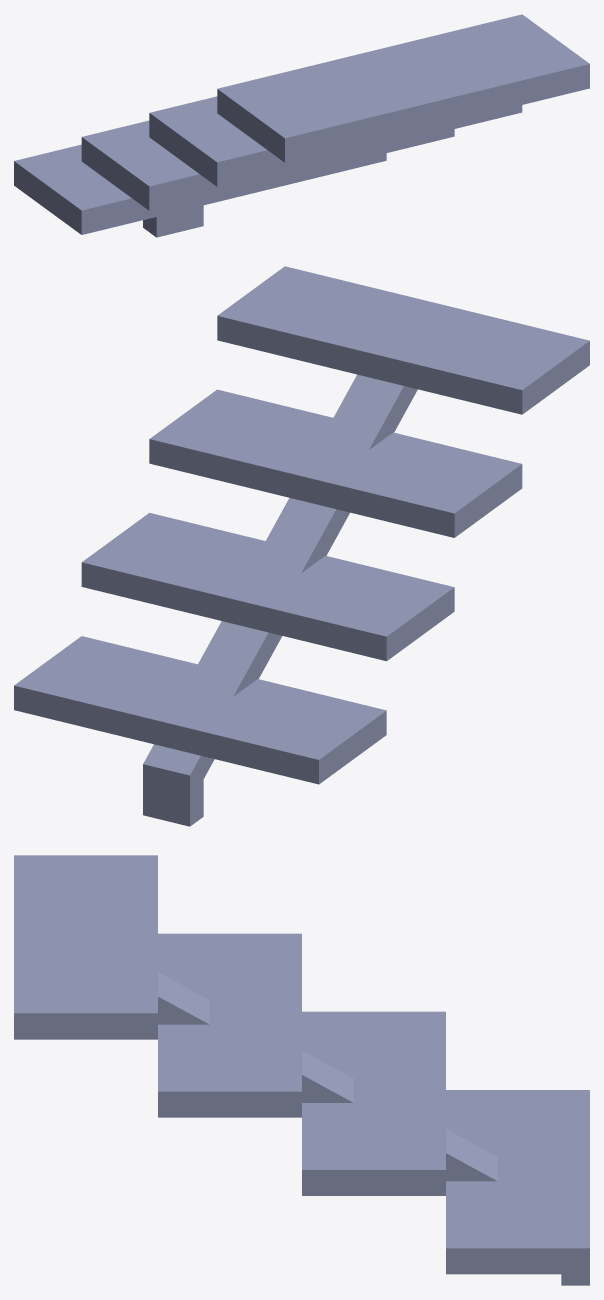
File: stairs-center-short.obj
3 renders of one model, top to bottom at view 1: azimuth 30°, elevation 25°; view 2: azimuth 150°, elevation 25°; view 3: azimuth 270°, elevation 25°, orthographic. The views are drawn at different scales.
Bounding box in the file's own units: 1.3 × 1.3 × 2.
